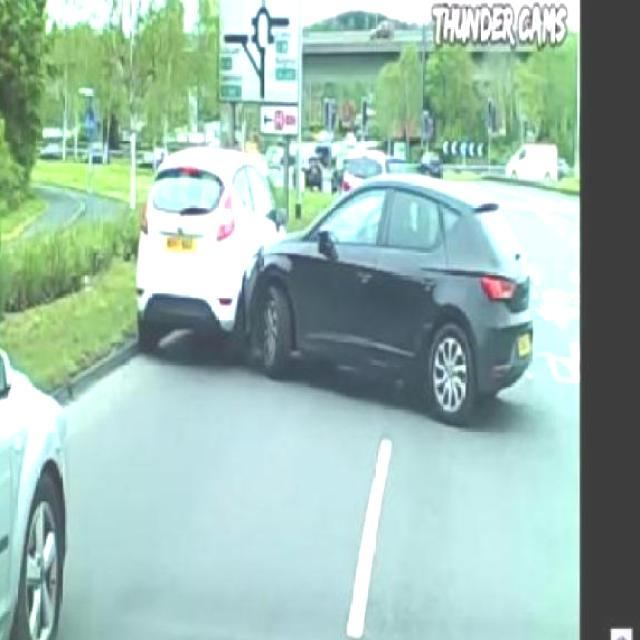accident: (133, 119, 534, 431)
